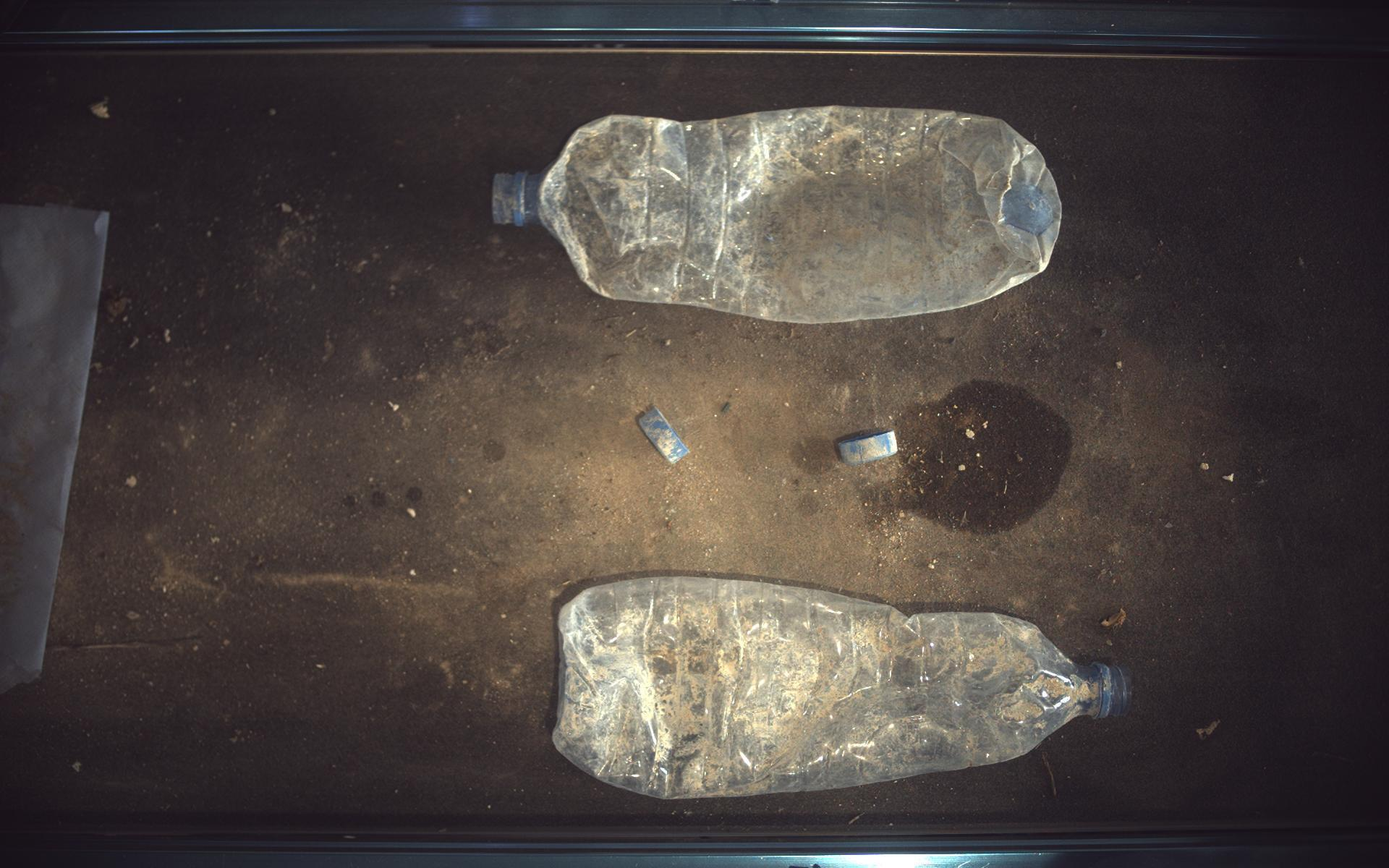general_w: (553, 579, 1133, 800), (493, 105, 1064, 323), (640, 407, 690, 464), (838, 431, 900, 466)
